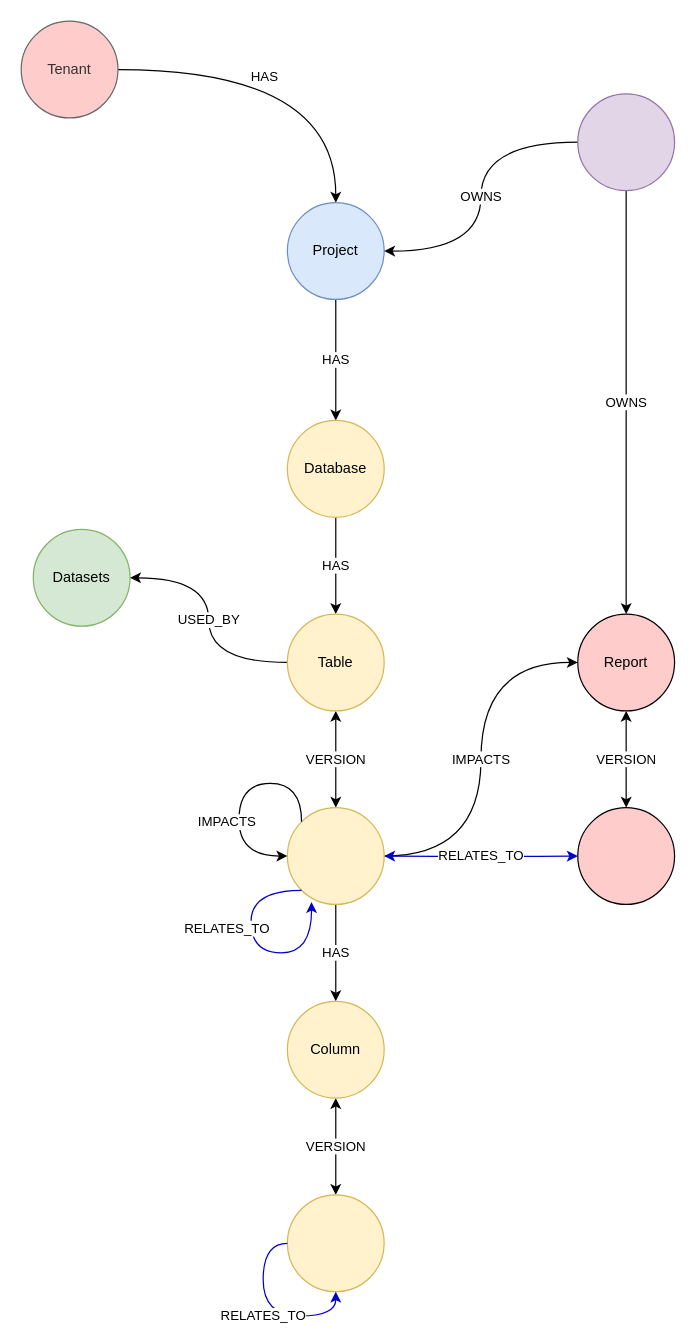
Image size: 696x1344. Some labels were removed from this diagram. Each missing label, with the centre of its shape:
Column Version: the point at 335,1243
Report Version: the point at 626,855
TableVersion: the point at 335,855
User: the point at 626,142
